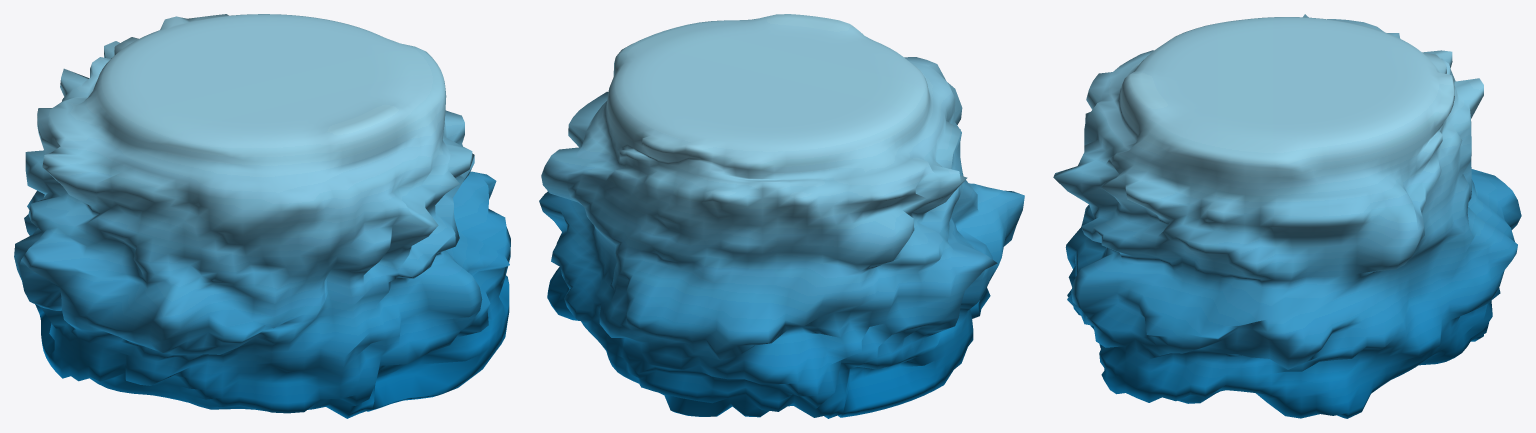
File: Glaciar 1.fbx
3 views of the same model, side by side, from view 1: azimuth 30°, elevation 25°; view 2: azimuth 150°, elevation 25°; view 3: azimuth 270°, elevation 25° (orthographic). The views are drawn at different scales.
Visible parts, largest first — view 1: Glaciar_1; view 2: Glaciar_1; view 3: Glaciar_1.
Part boxes in pixels (left/top/right/bottom): Glaciar_1: left=14, top=14, right=510, bottom=418; Glaciar_1: left=539, top=14, right=1024, bottom=418; Glaciar_1: left=1053, top=14, right=1521, bottom=418.
Size of the model in its own units: 16.34 by 9.47 by 14.86.
